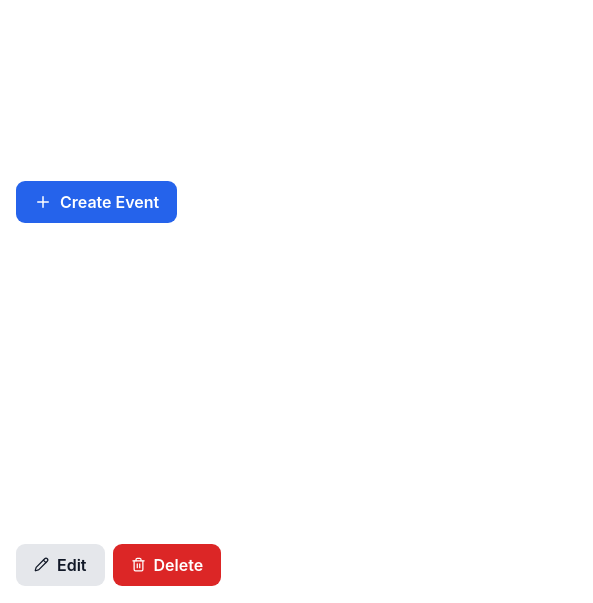
Test: Events Page › opens the create event form
Click the button "Create Event".
click(97, 202)  # box [16,181,177,223]
(page scrolled)
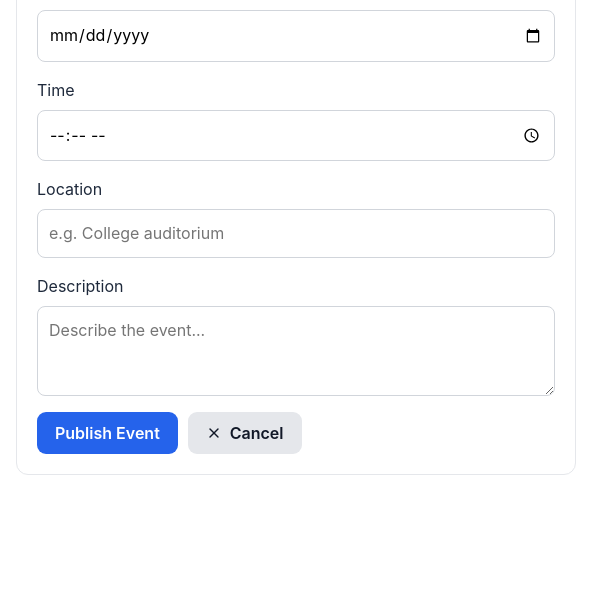
Now the date field labelled "Date" is shown, box [37,10,555,62]
Now the time field labelled "Time" is shown, box [37,110,555,161]
Now the field labelled "Location" is shown, box [37,209,555,258]
